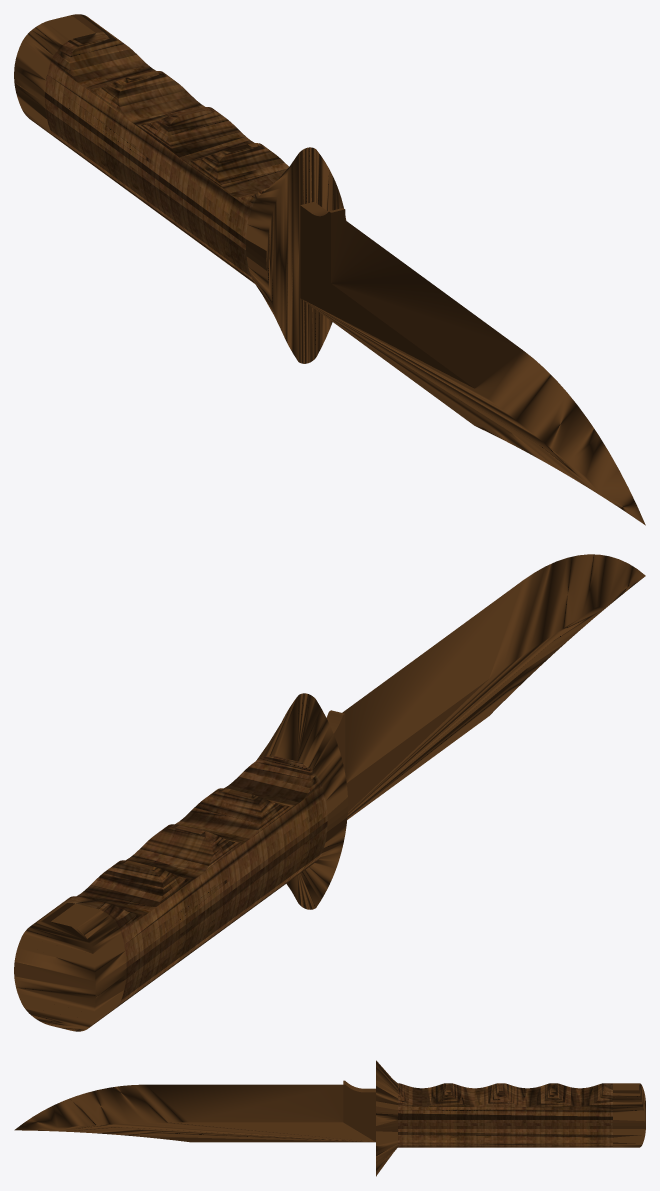
The model's file is model_align.obj.
3 renders of one model, top to bottom at view 1: azimuth 30°, elevation 25°; view 2: azimuth 150°, elevation 25°; view 3: azimuth 270°, elevation 25°, orthographic. The views are drawn at different scales.
Size of the model in its own units: 0.0172 by 0.0433 by 0.2148.
Materials: 2 (2 with a texture image).
